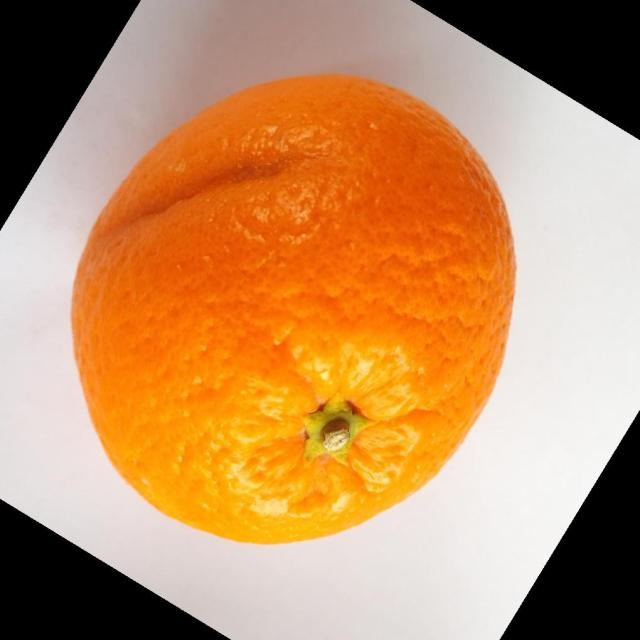agrume: (69, 72, 518, 545)
